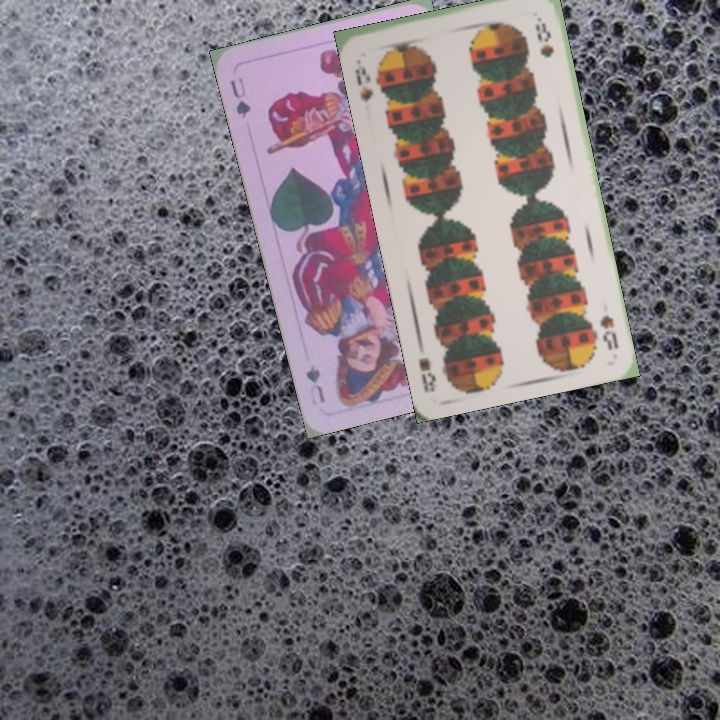GU: (226, 73, 253, 121)
S8: (351, 55, 376, 106), (595, 311, 621, 353)
